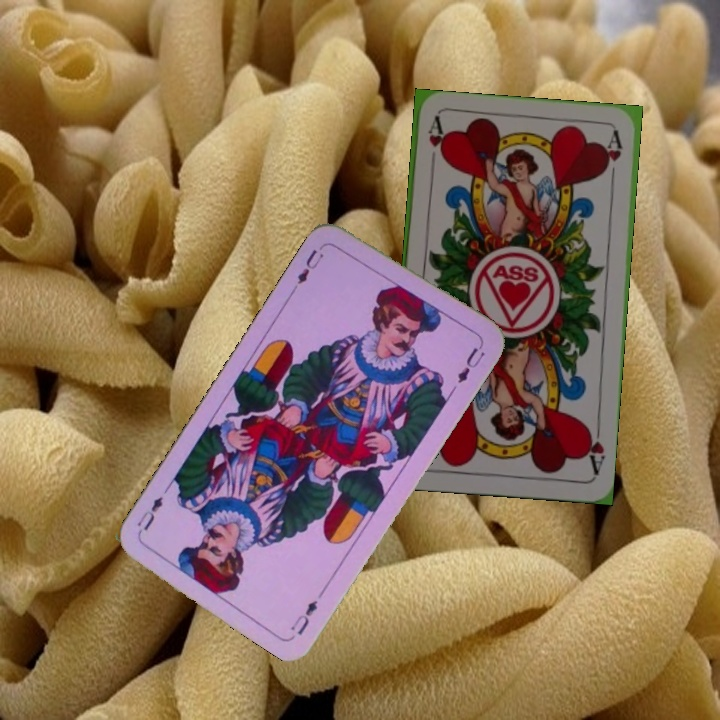EU: (293, 240, 328, 288), (286, 596, 321, 638)
HA: (581, 418, 608, 478), (424, 115, 446, 174)
